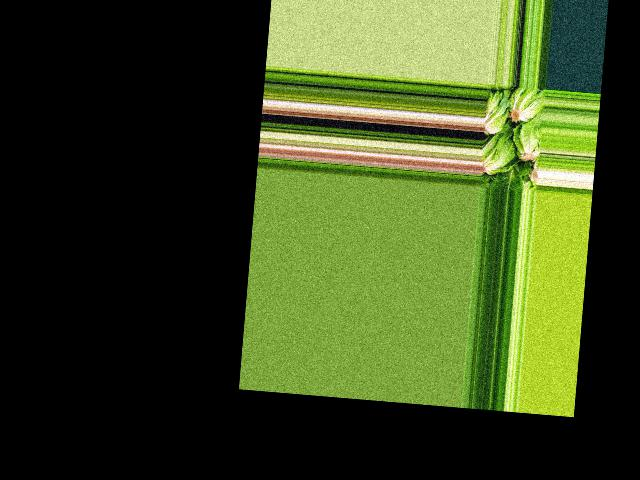lettuce: (498, 165, 524, 192)
